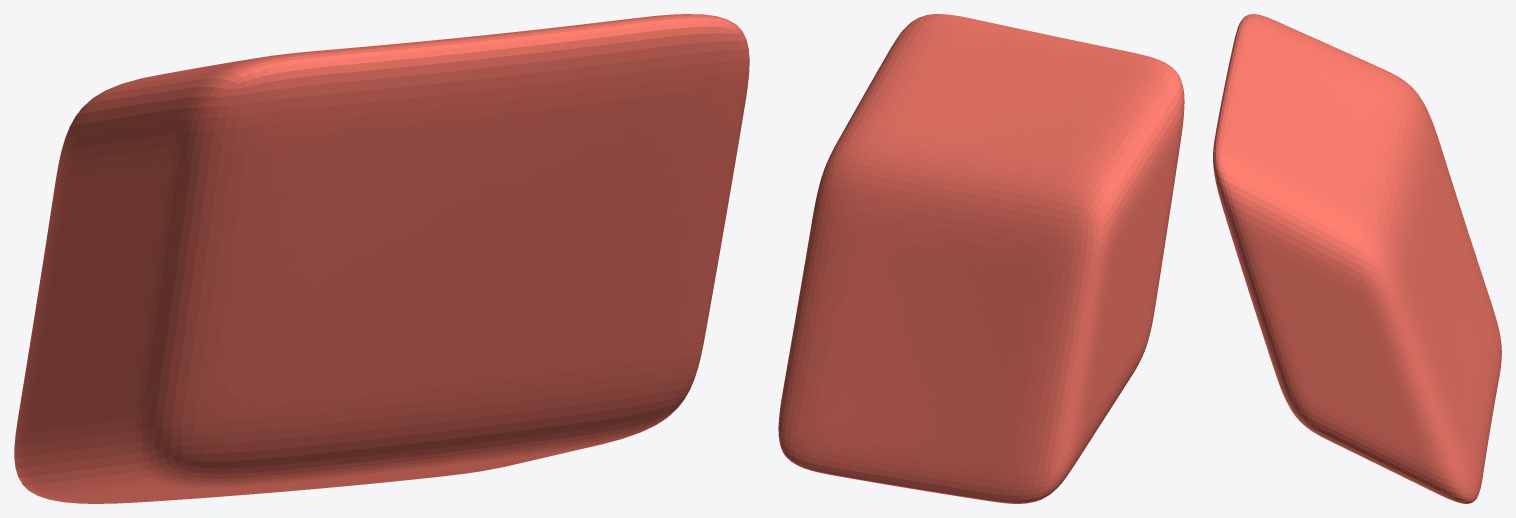
The picture shows the model from 3 angles, left to right: view 1: azimuth 30°, elevation 25°; view 2: azimuth 150°, elevation 25°; view 3: azimuth 270°, elevation 25°; orthographic projection. The views are drawn at different scales.
Visible parts, largest first — view 1: waves_1.025; view 2: waves_1.025; view 3: waves_1.025.
Boxes of the visible parts, <box> form: waves_1.025: <box>14,14,749,503</box>; waves_1.025: <box>778,14,1184,503</box>; waves_1.025: <box>1213,14,1501,503</box>.
Bounding box in the file's own units: 30.39 × 34.97 × 24.91.
